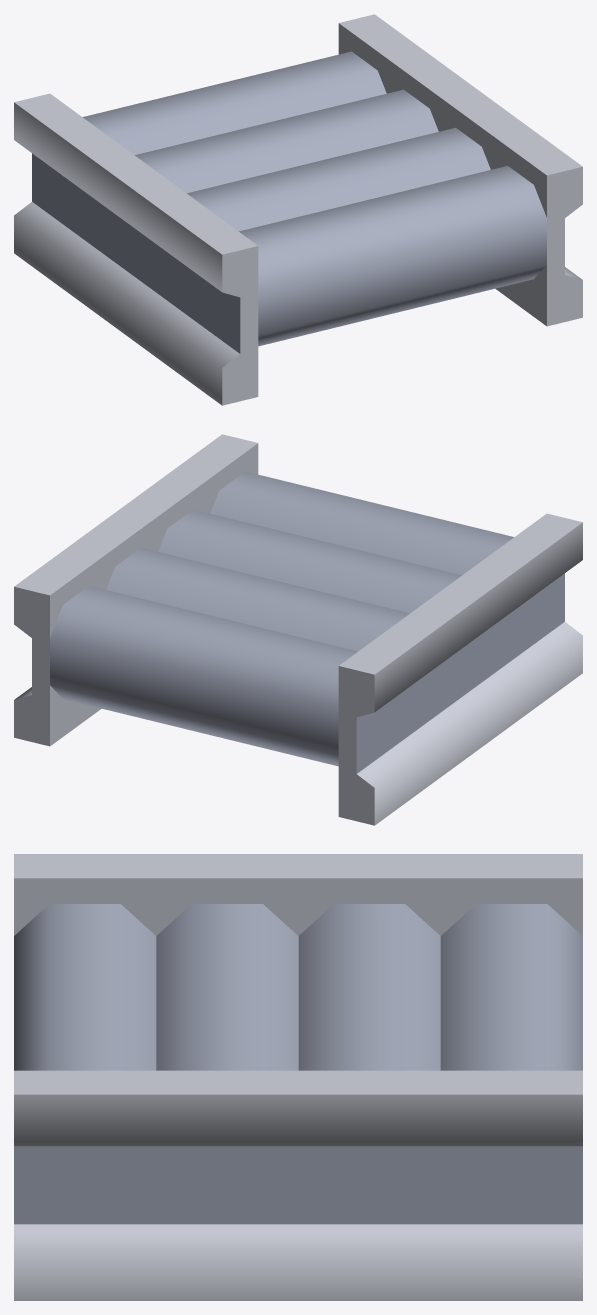
File: conveyor-bars-high.fbx
3 renders of one model, top to bottom at view 1: azimuth 30°, elevation 25°; view 2: azimuth 150°, elevation 25°; view 3: azimuth 270°, elevation 25°, orthographic. The views are drawn at different scales.
Visible parts, largest first — view 1: Group.003, Group.004; view 2: Group.003, Group.004; view 3: Group.004, Group.003.
Boxes of the visible parts, x1,y1,x2,y2 form: Group.003: [82, 51, 546, 346]; Group.004: [14, 14, 582, 405]; Group.003: [50, 471, 514, 766]; Group.004: [14, 434, 582, 825]; Group.004: [14, 854, 582, 1300]; Group.003: [14, 904, 582, 1070].
Bounding box in the file's own units: 100 × 40 × 100.
